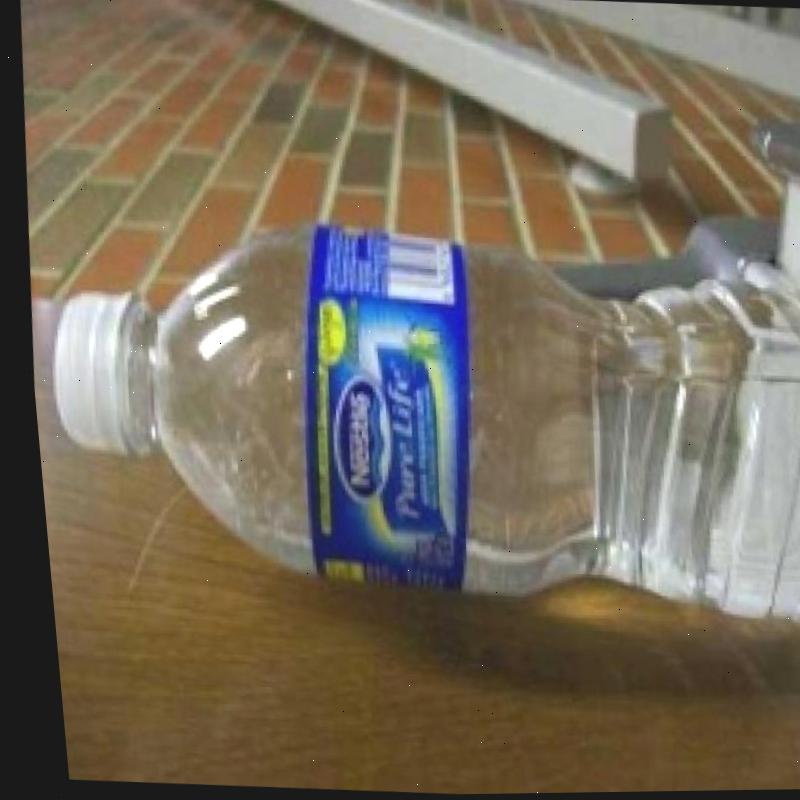botella: (19, 203, 800, 644)
